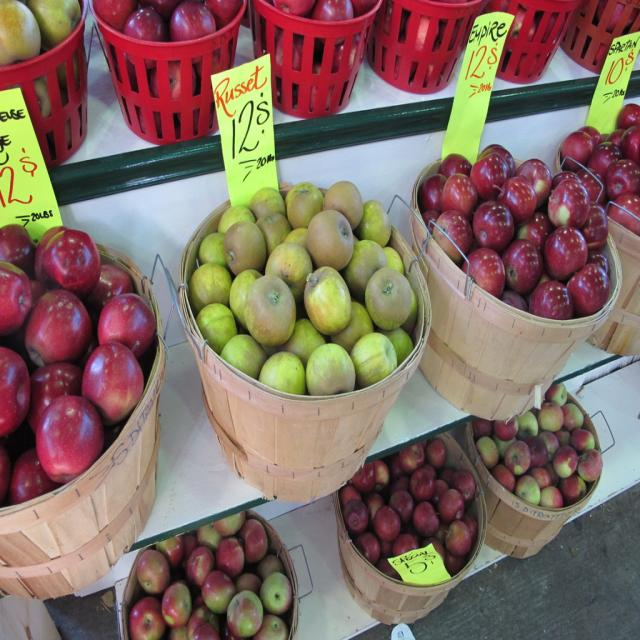Healty Apple: (188, 182, 416, 395), (0, 218, 153, 500), (419, 142, 613, 317), (91, 0, 241, 137), (127, 517, 291, 639), (340, 441, 479, 584), (471, 386, 601, 512), (259, 0, 376, 111), (0, 0, 83, 148), (560, 99, 640, 238), (371, 0, 482, 86), (28, 396, 95, 483), (492, 0, 570, 71)
